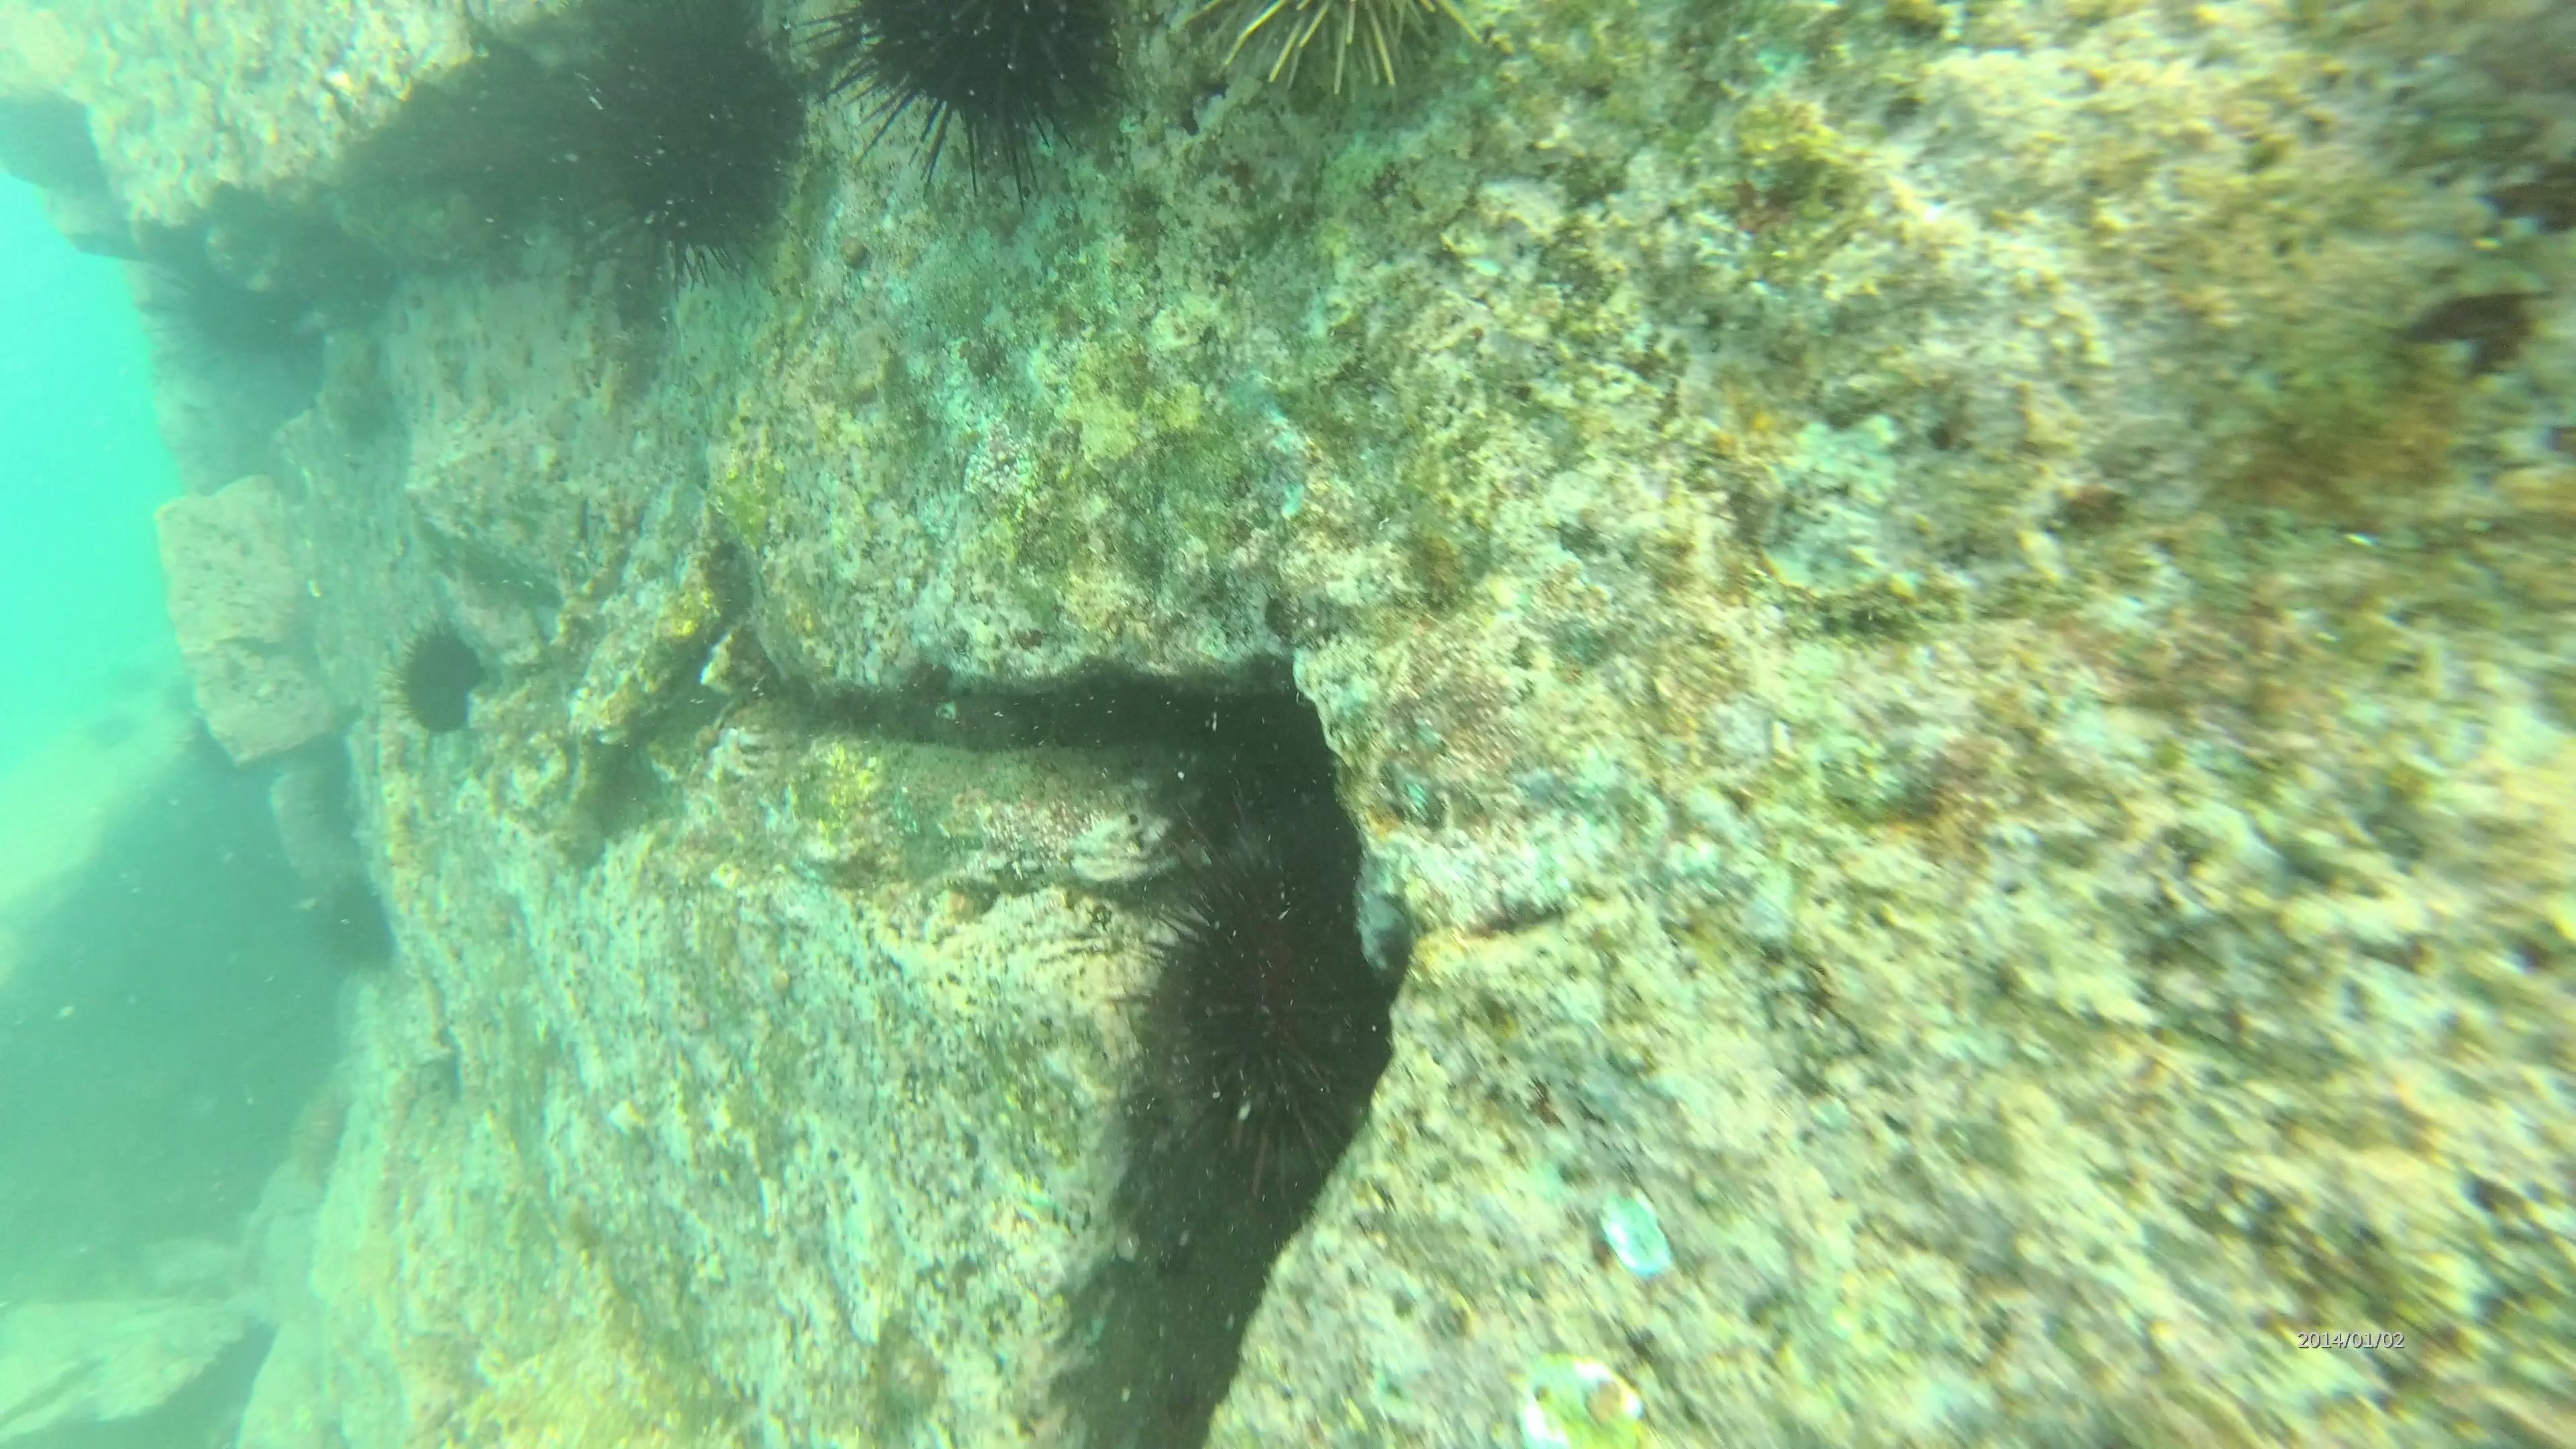echinus: (1131, 835, 1410, 1182), (548, 5, 828, 288), (816, 2, 1146, 189), (1168, 2, 1499, 122), (386, 616, 497, 741), (303, 869, 403, 980)
